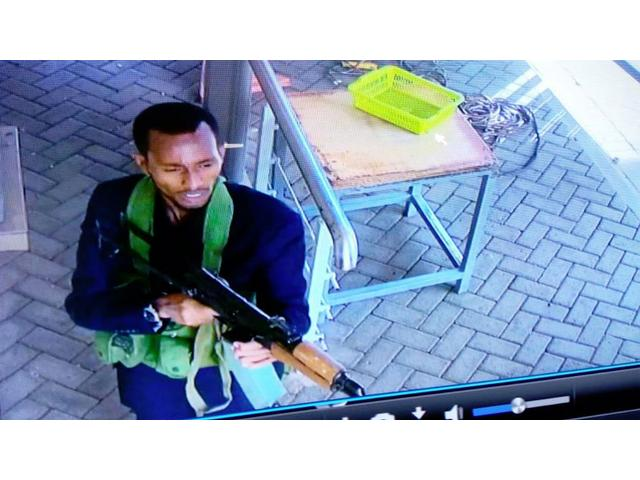rifle: (107, 220, 375, 397)
